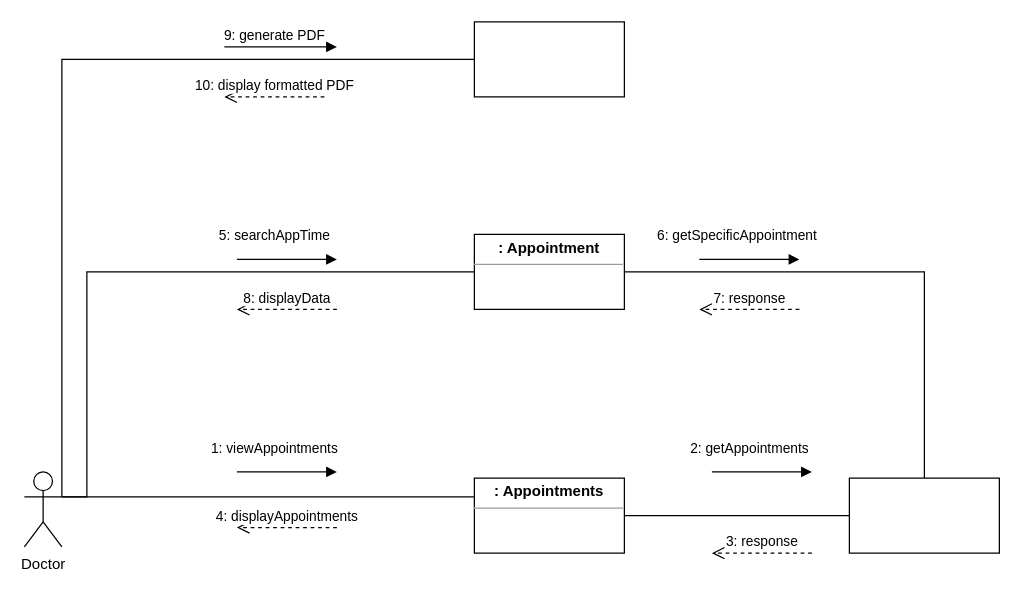
This 1021x595 diagram has some shape labels left out. The centre of each missing label's shape, as x and y in pixels:
: Database: (x=923, y=515)
: PDF: (x=548, y=59)
